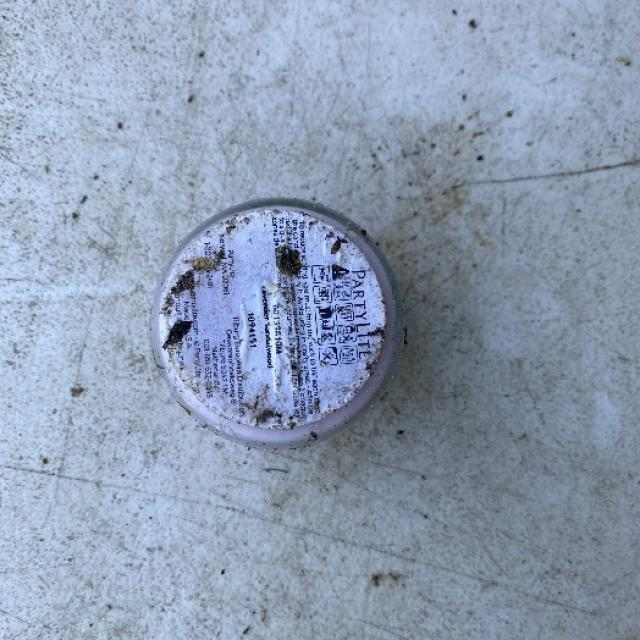inorganic: (164, 179, 424, 450)
